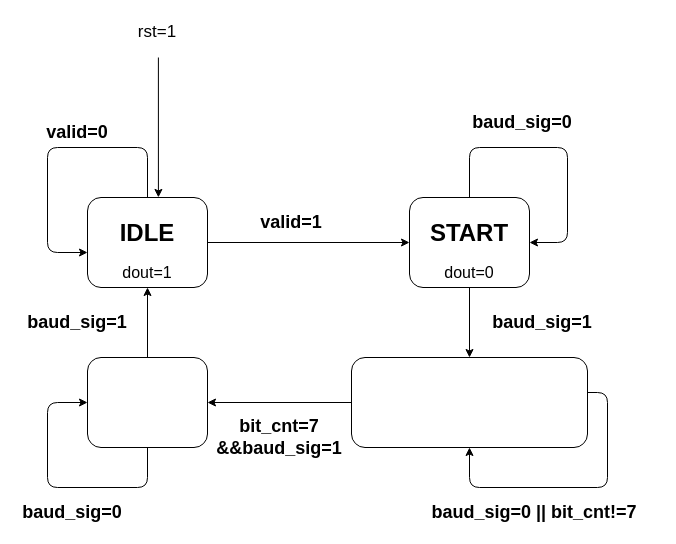
This 676x544 diagram has some shape labels left out. The shapes that lost their labels are listed below. From the top down, each one's centre as x and y in pixels, then its label:
At (147,402): "STOP dout=1".
At (469,402): "DATA dout=data_cache[bit_cnt]".
